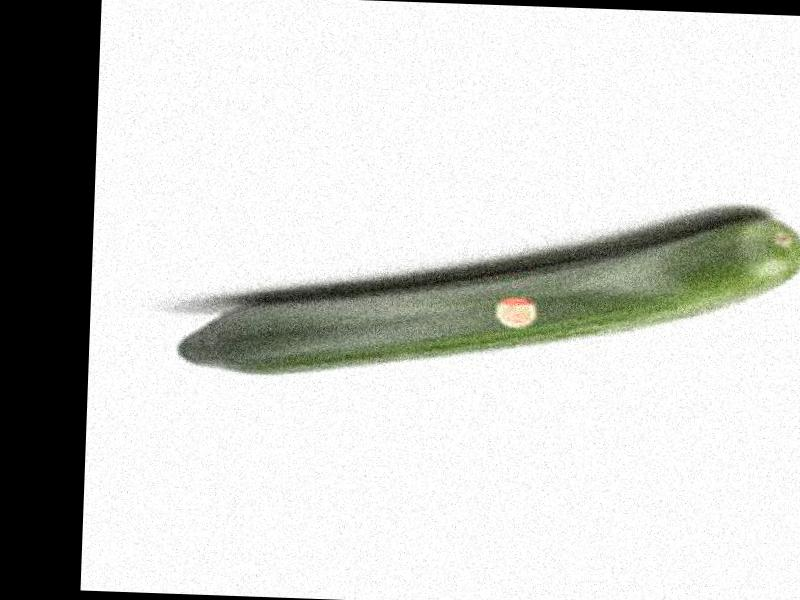Cucumber: (177, 196, 800, 393)
